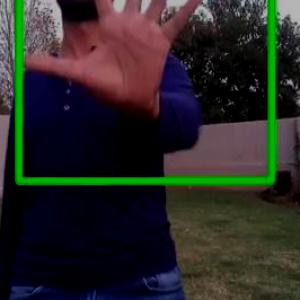follow_hand: (23, 0, 208, 115)
